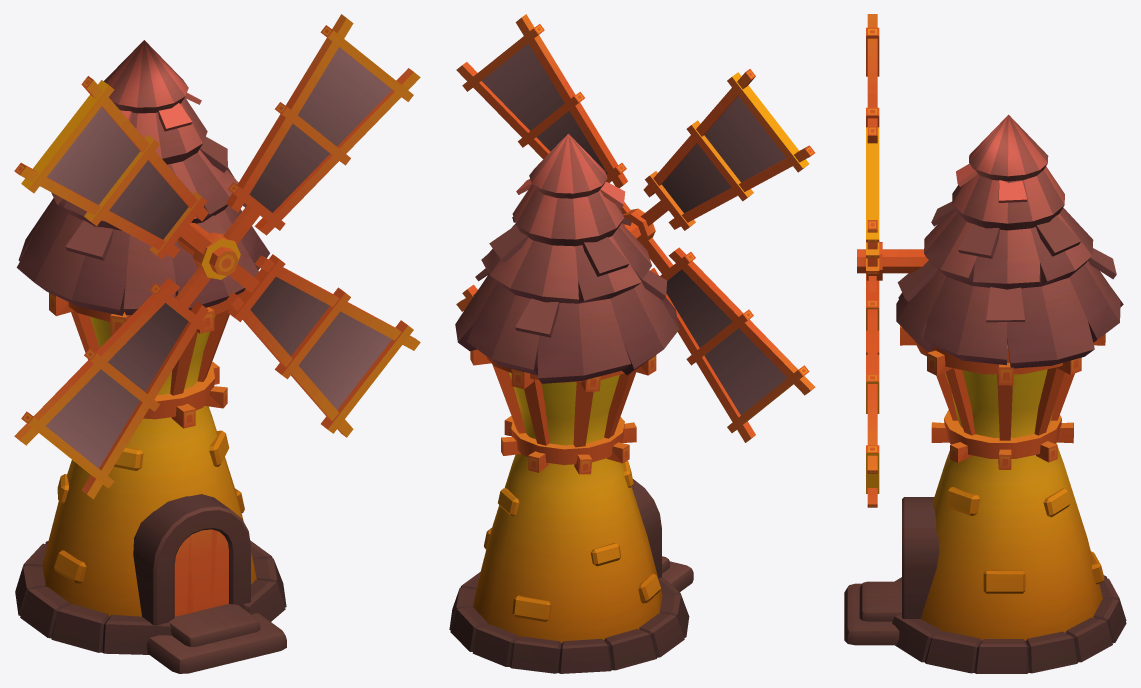
Rendered from windmill.glb.
The picture shows the model from 3 angles, left to right: view 1: azimuth 30°, elevation 25°; view 2: azimuth 150°, elevation 25°; view 3: azimuth 270°, elevation 25°; orthographic projection. The views are drawn at different scales.
Visible parts, largest first — view 1: windmill; view 2: windmill; view 3: windmill.
Boxes of the visible parts, bbox=[...] form: windmill: bbox=[14, 14, 420, 673]; windmill: bbox=[449, 14, 815, 673]; windmill: bbox=[844, 14, 1126, 673].
Bounding box in the file's own units: 2.79 × 4.03 × 1.87.
1 material, 1 textured.
